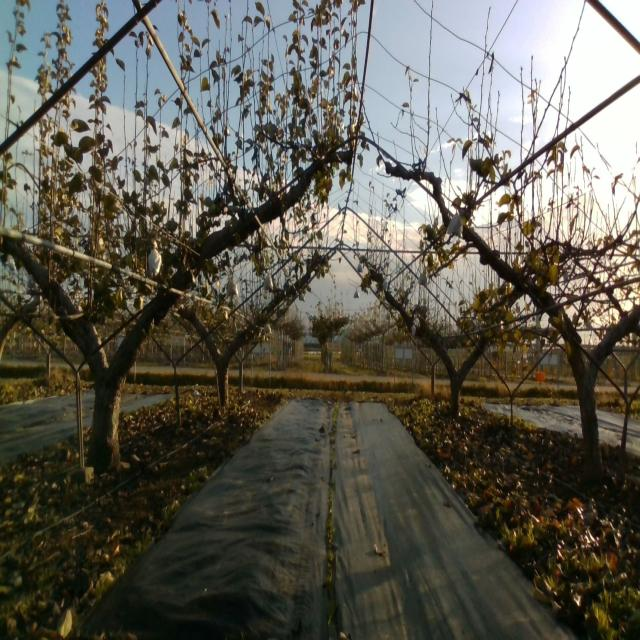pearbags: (445, 211, 465, 238), (147, 242, 162, 276), (226, 275, 238, 297), (262, 271, 275, 290)
